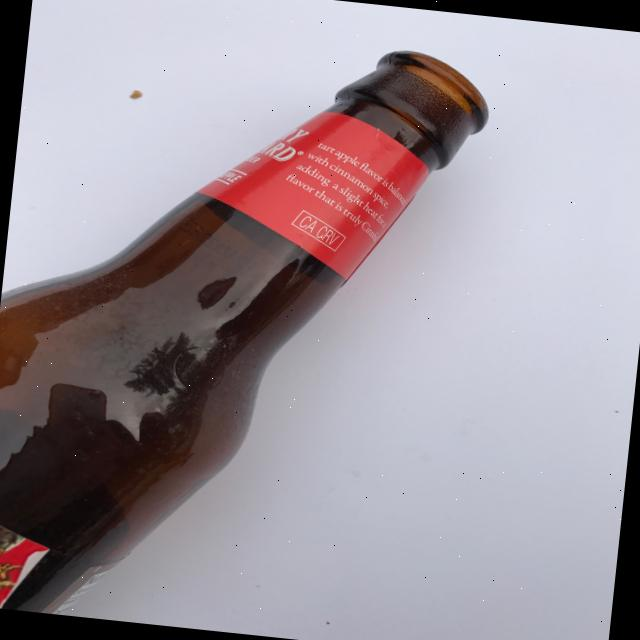glass: (0, 13, 484, 640)
